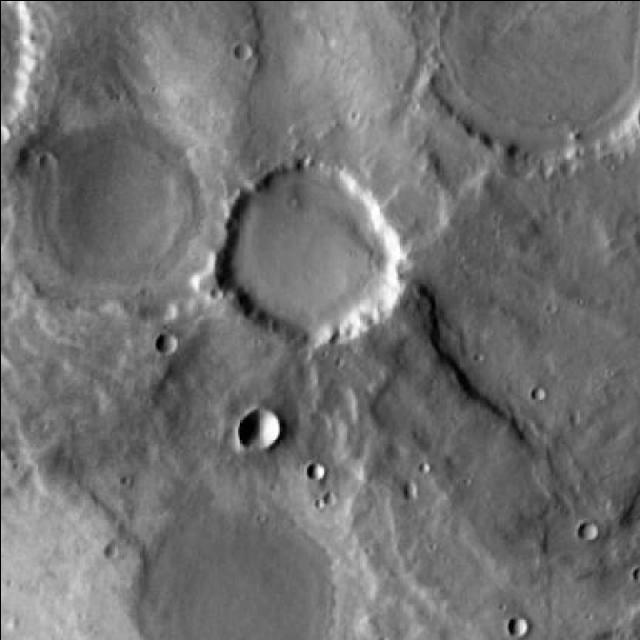crater: (106, 466, 400, 640), (0, 107, 209, 316), (224, 157, 408, 340), (442, 1, 640, 162), (236, 408, 279, 450), (0, 127, 19, 146), (578, 522, 596, 540), (506, 618, 524, 636), (156, 334, 173, 352), (230, 43, 248, 60), (306, 464, 323, 482)
